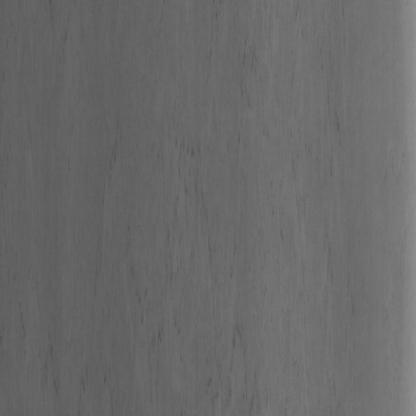silk_spot: (63, 73, 278, 416)
